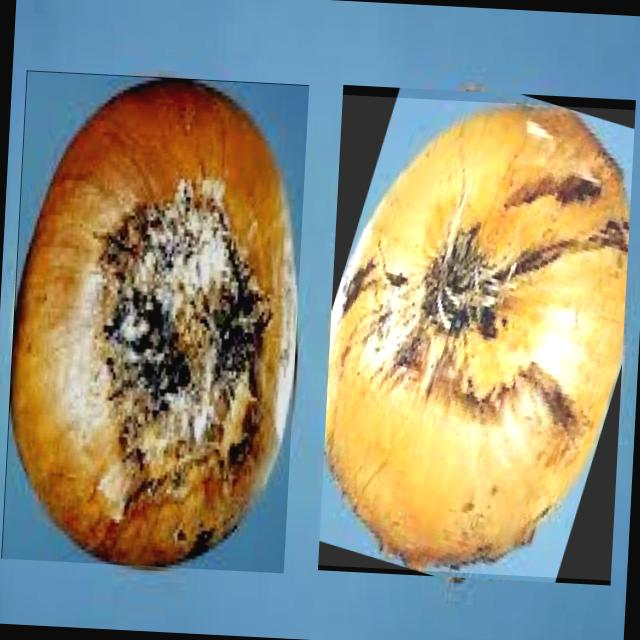rotten: (324, 106, 630, 570), (10, 78, 298, 567)
